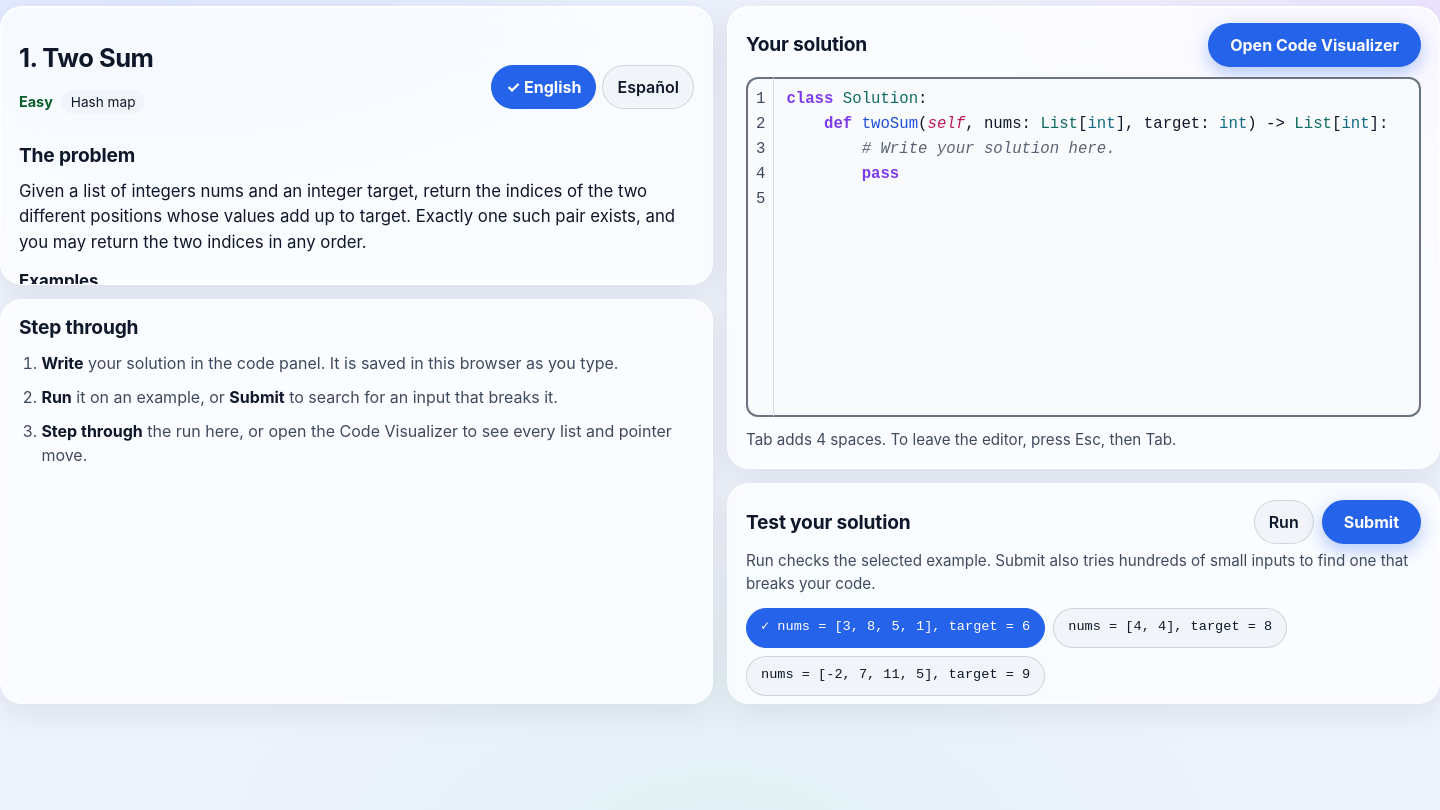
Scenario: first-time clarity › brings the result into view when it arrives (the panel can be short)
The image size is (1440, 810).
Click the button "Run" at (1284, 522), box top-left (1254, 500), bottom-right (1314, 544)
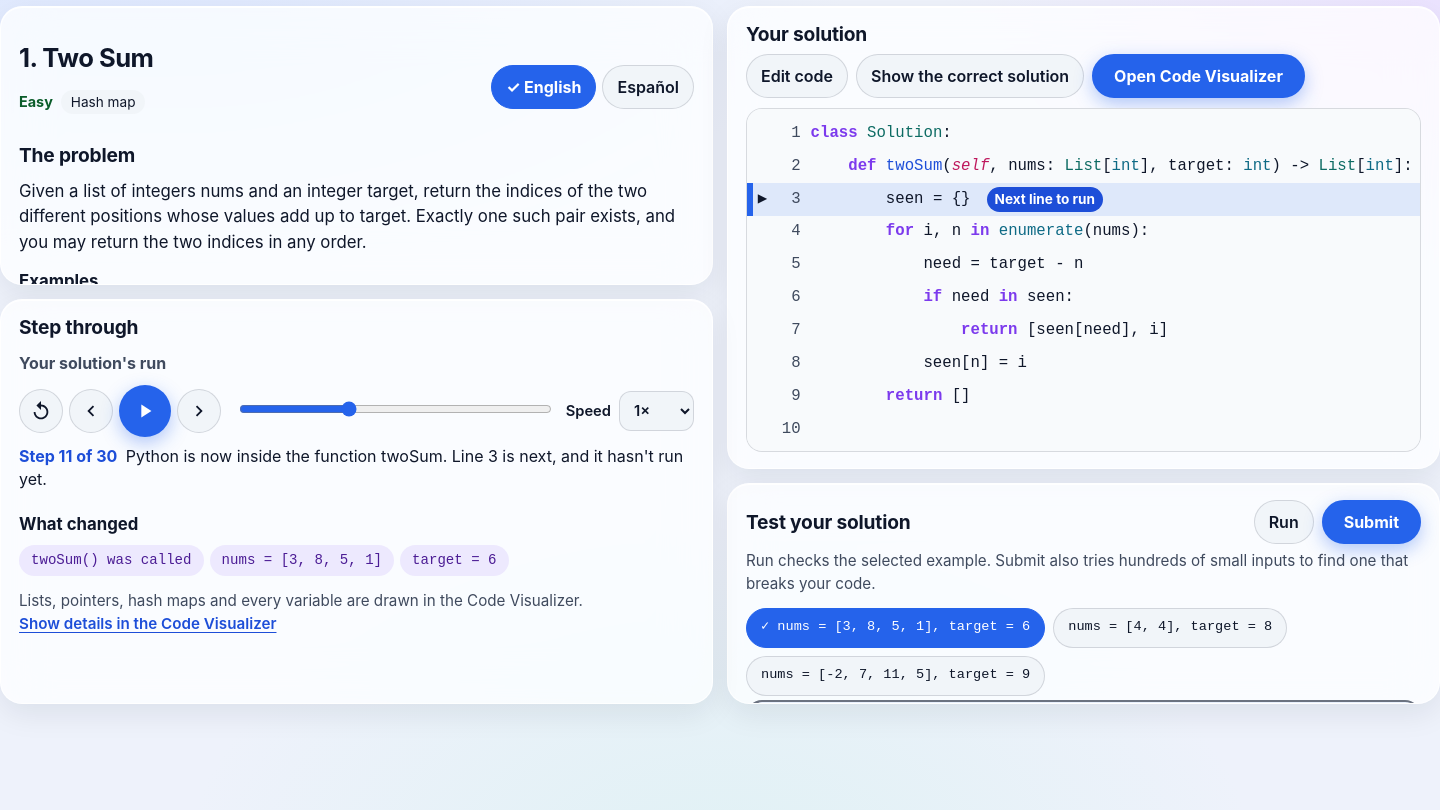
Expected: the element "Your solution's run" is shown, top-left (19, 351), bottom-right (694, 636)
